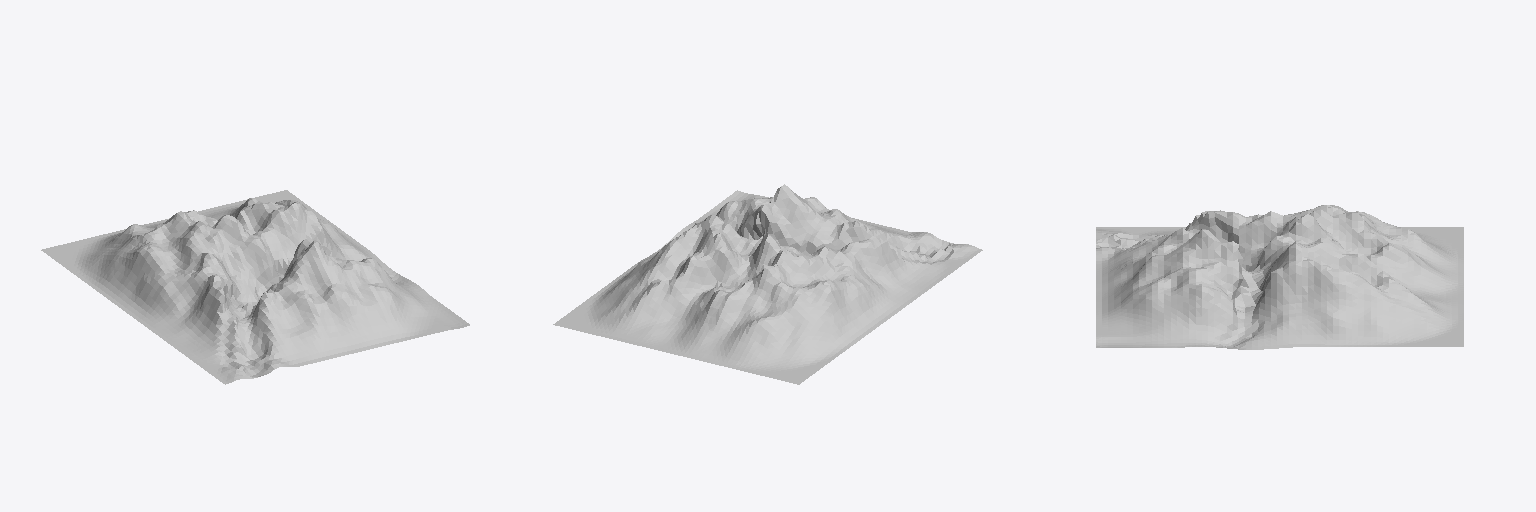
File: Mountain3k.obj
The picture shows the model from 3 angles: view 1: azimuth 30°, elevation 25°; view 2: azimuth 150°, elevation 25°; view 3: azimuth 270°, elevation 25°; orthographic projection.
Parts seen in each view (by area): view 1: Landscape; view 2: Landscape; view 3: Landscape.
Boxes of the visible parts, <box> form: Landscape: <box>41,190,469,384</box>; Landscape: <box>553,184,982,384</box>; Landscape: <box>1096,205,1463,349</box>.
Bounding box in the file's own units: 19.4 × 5.65 × 25.16.